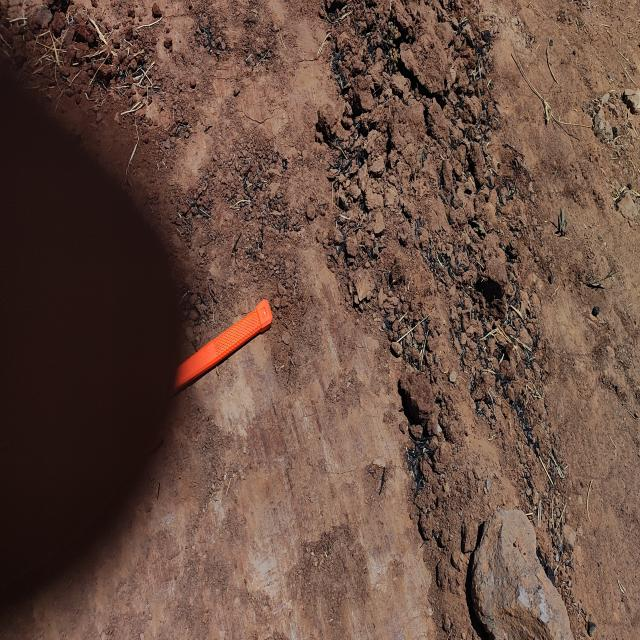Orange_hammer: (170, 296, 273, 398)
